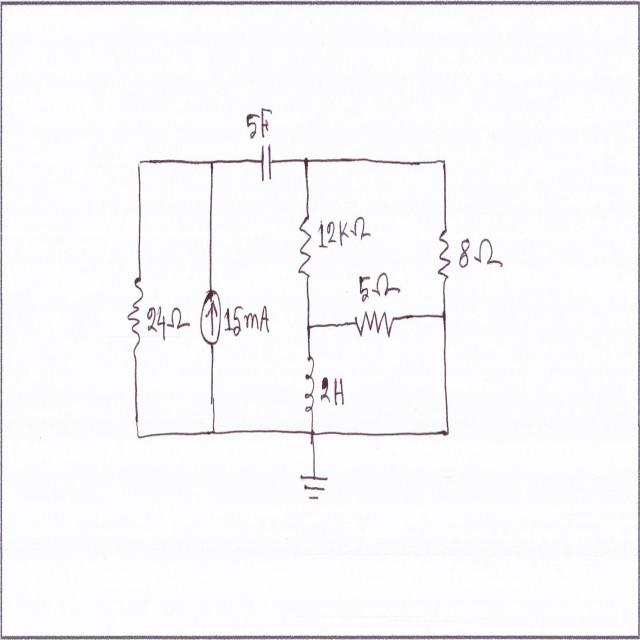capacitor: (258, 141, 274, 188)
current_source: (199, 286, 223, 354)
ground: (298, 463, 329, 507)
inductor: (302, 355, 318, 422)
resistor: (354, 309, 398, 345), (127, 270, 144, 358), (298, 212, 313, 281), (438, 224, 452, 288)
